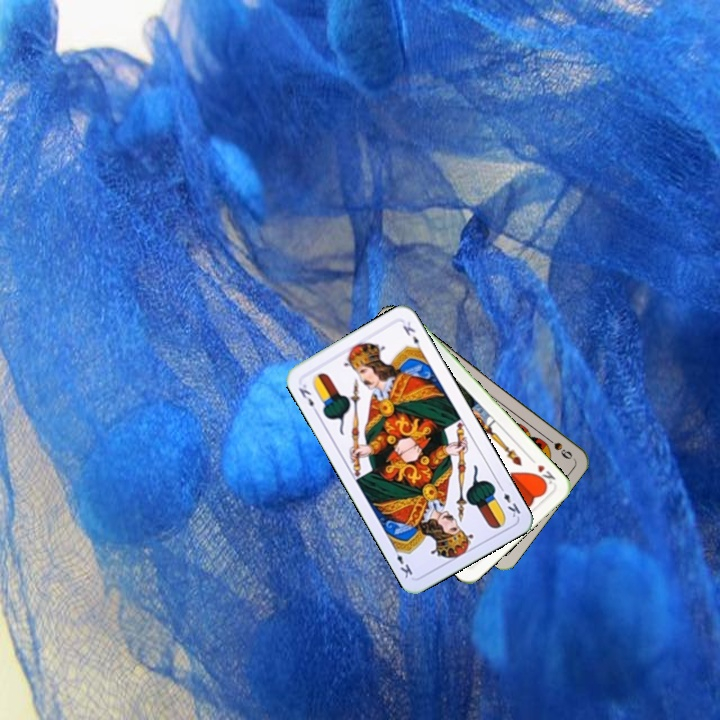EK: (495, 481, 523, 520), (294, 380, 321, 416)
HK: (531, 460, 558, 490)
S9: (541, 432, 575, 462)
